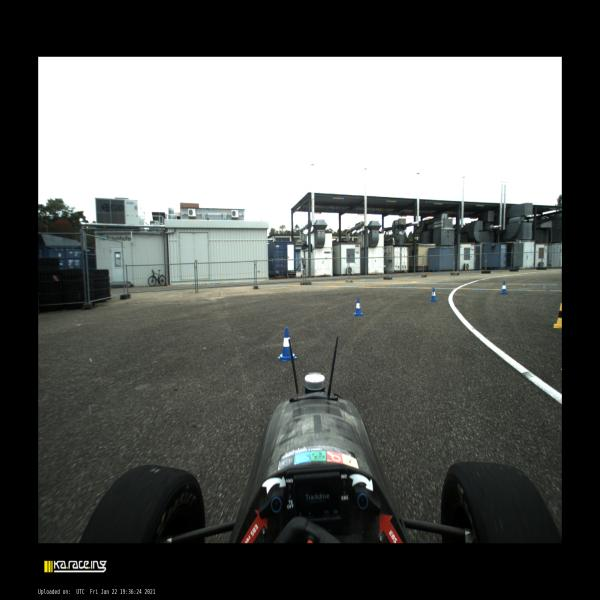blue_cone: (278, 328, 296, 361), (354, 298, 364, 316), (430, 288, 438, 302), (500, 282, 508, 294)
yellow_cone: (554, 303, 562, 328)
